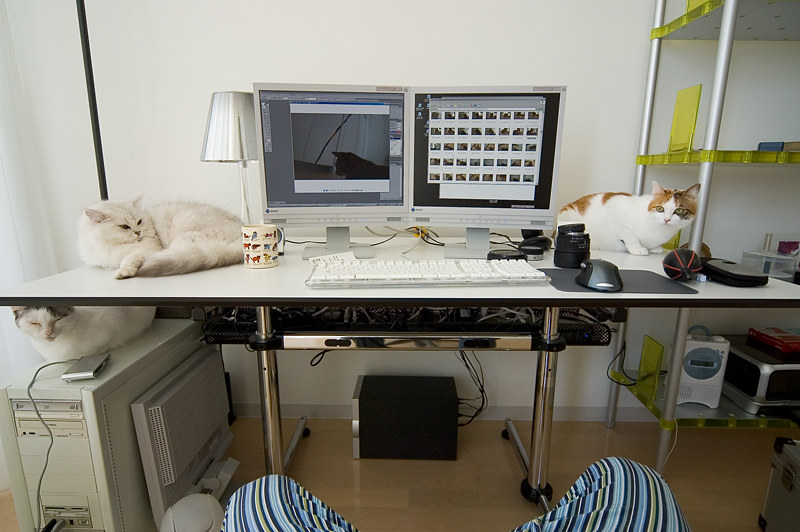cat: (70, 184, 251, 273), (1, 293, 170, 363), (553, 181, 698, 256)
tvmonitor: (246, 80, 406, 225), (407, 86, 569, 229)
